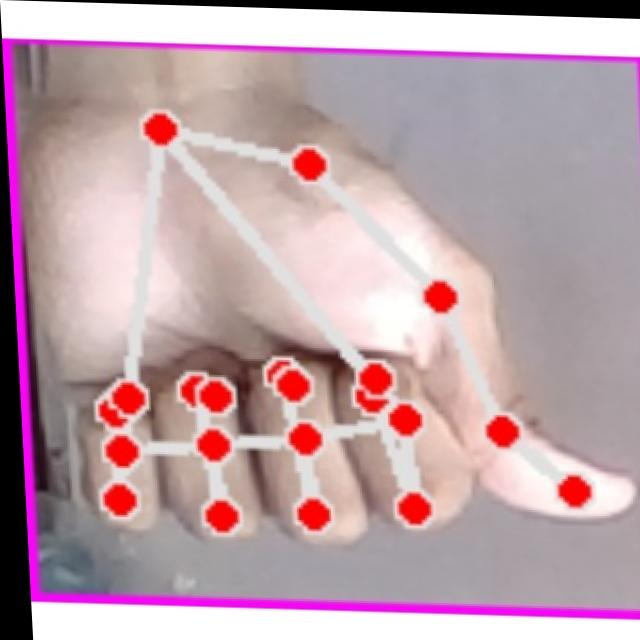A: (29, 90, 640, 566)
